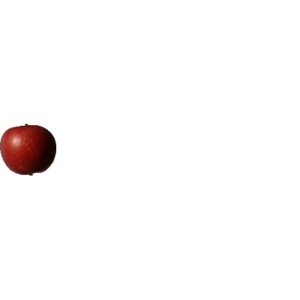maçã braeburn: (2, 121, 57, 178)
